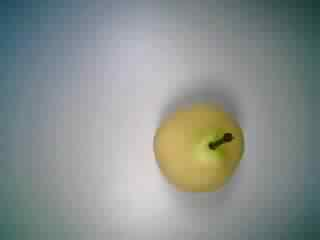pear: (142, 89, 253, 199)
